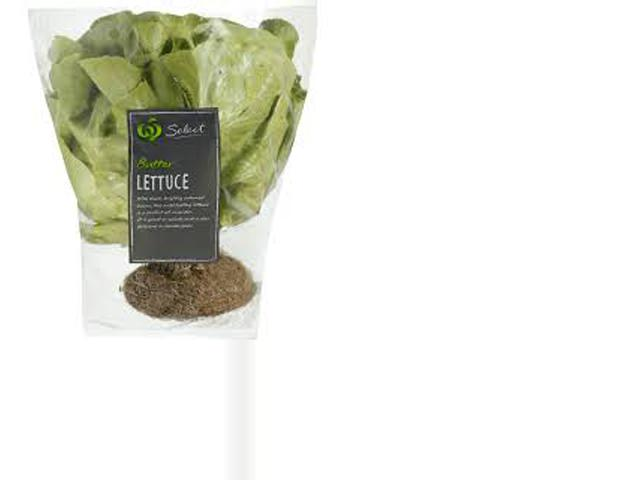lettuce: (32, 7, 314, 338)
